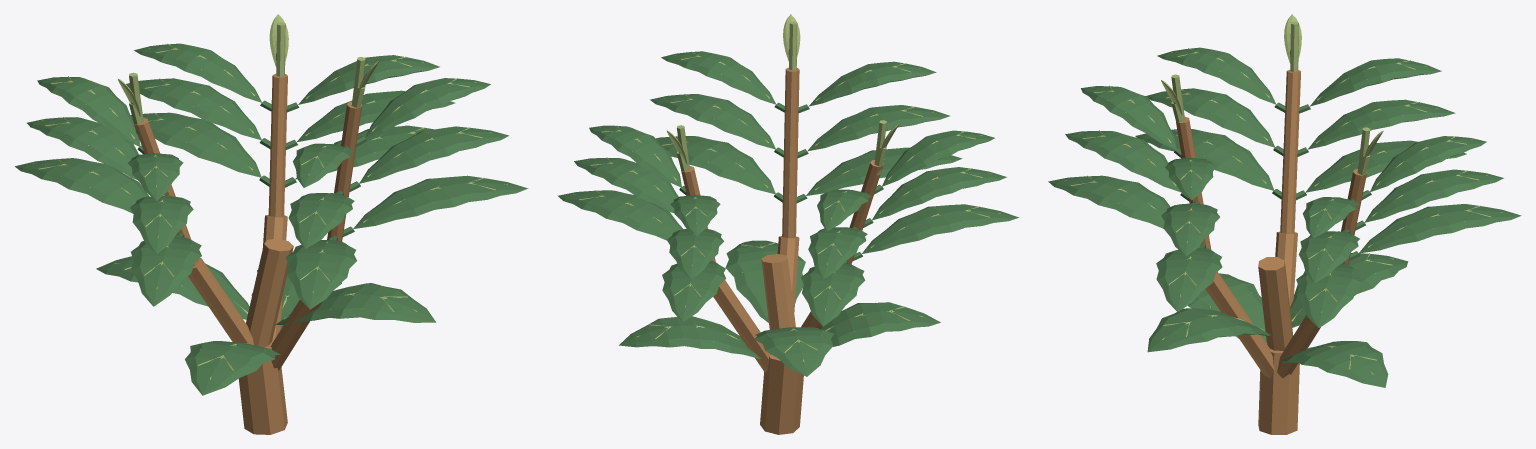
Rendered from SM_TeaDinh.fbx.
3 views of the same model, side by side, from view 1: azimuth 30°, elevation 25°; view 2: azimuth 150°, elevation 25°; view 3: azimuth 270°, elevation 25° (orthographic). The views are drawn at different scales.
Visible parts, largest first — view 1: FoliageRoot, ReadyAccents; view 2: FoliageRoot, ReadyAccents; view 3: FoliageRoot, ReadyAccents.
Part boxes in pixels (bbox=[...]): FoliageRoot: bbox=[15, 43, 528, 434]; ReadyAccents: bbox=[118, 14, 379, 122]; FoliageRoot: bbox=[557, 49, 1018, 434]; ReadyAccents: bbox=[666, 14, 899, 170]; FoliageRoot: bbox=[1048, 47, 1521, 434]; ReadyAccents: bbox=[1161, 14, 1383, 173].
Size of the model in its own units: 0.8456 by 0.78 by 0.9.
